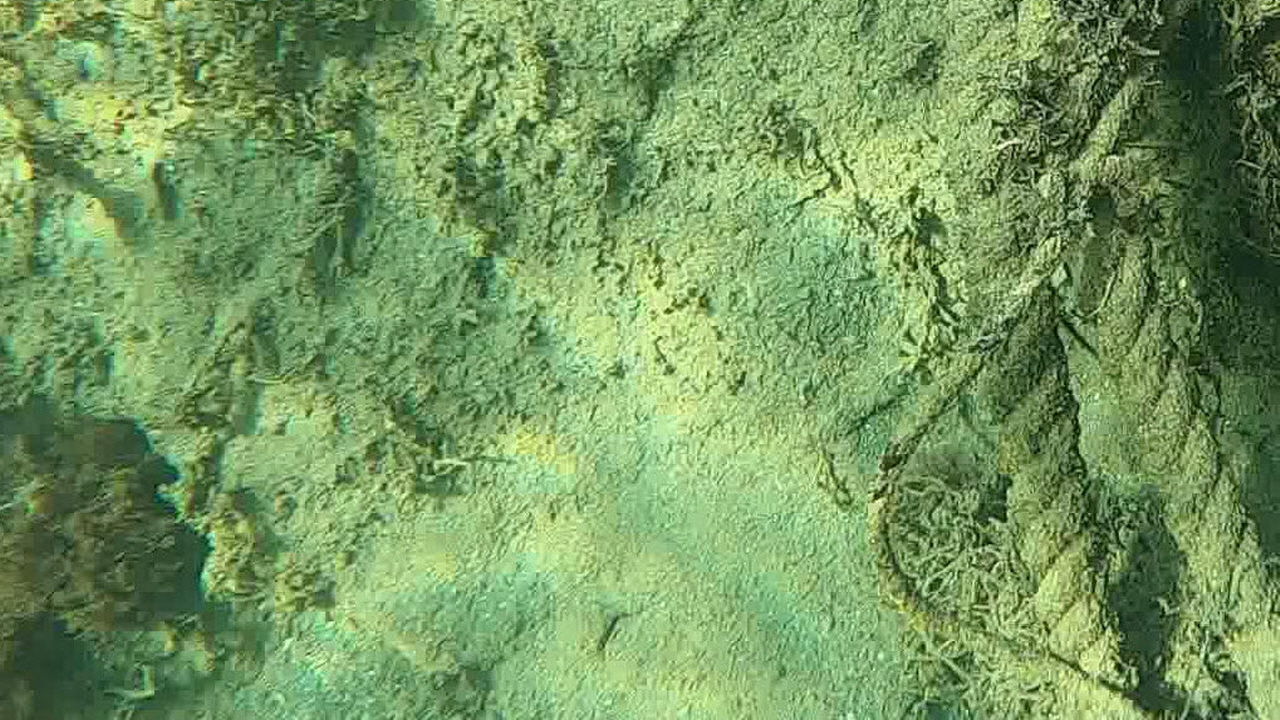bundle of ropes: (940, 0, 1280, 720)
rope: (862, 0, 1158, 720)
